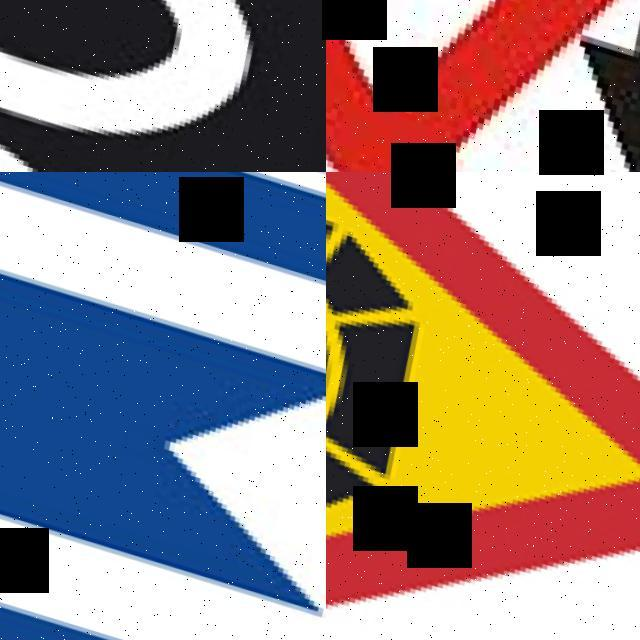100: (0, 0, 326, 172)
163: (326, 172, 640, 640)
78: (0, 172, 326, 640)
No Left turn: (326, 0, 640, 172)
